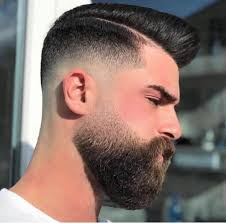b.y: (126, 137, 175, 209)
